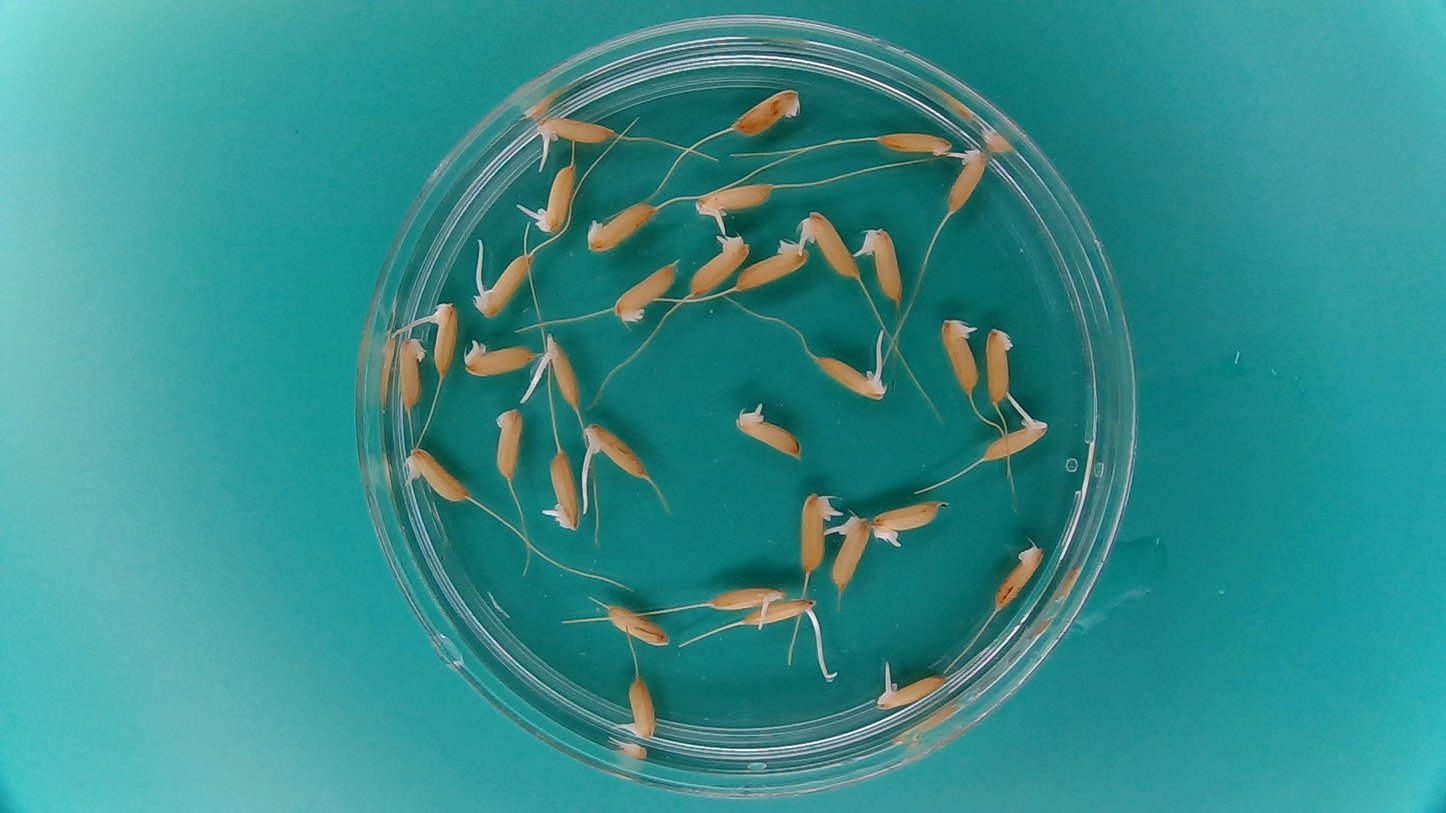no: (609, 258, 680, 324), (733, 236, 810, 291), (584, 199, 658, 252), (728, 85, 804, 136), (991, 543, 1042, 608), (603, 603, 671, 647), (984, 325, 1016, 408), (875, 126, 951, 160), (492, 405, 523, 483), (398, 333, 427, 410)
yes: (685, 225, 752, 298), (798, 209, 861, 282), (578, 422, 651, 483), (472, 251, 535, 318), (537, 330, 583, 414), (981, 405, 1051, 460), (407, 445, 474, 501), (858, 224, 904, 303), (938, 316, 982, 398), (813, 353, 889, 400), (731, 411, 802, 461), (459, 336, 539, 379), (797, 490, 837, 574), (945, 142, 990, 215), (871, 500, 945, 544), (531, 111, 616, 148), (828, 513, 871, 586), (532, 162, 576, 233), (694, 182, 778, 218), (874, 668, 944, 711), (549, 448, 581, 529), (428, 297, 459, 378), (704, 583, 788, 612), (622, 673, 658, 740), (743, 595, 818, 626)
